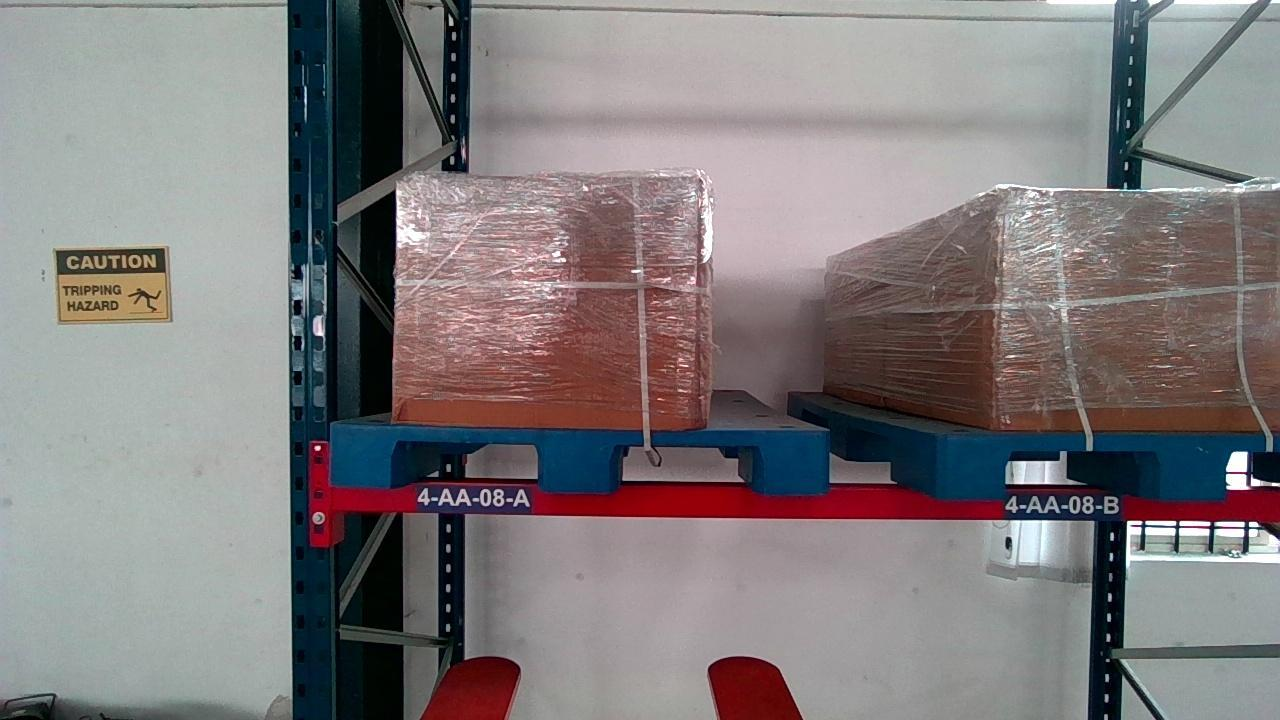h_rack: (321, 483, 1280, 520)
small_pallet: (330, 422, 826, 487), (950, 439, 1280, 495)
